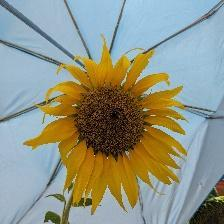sunflower: (25, 32, 192, 217)
